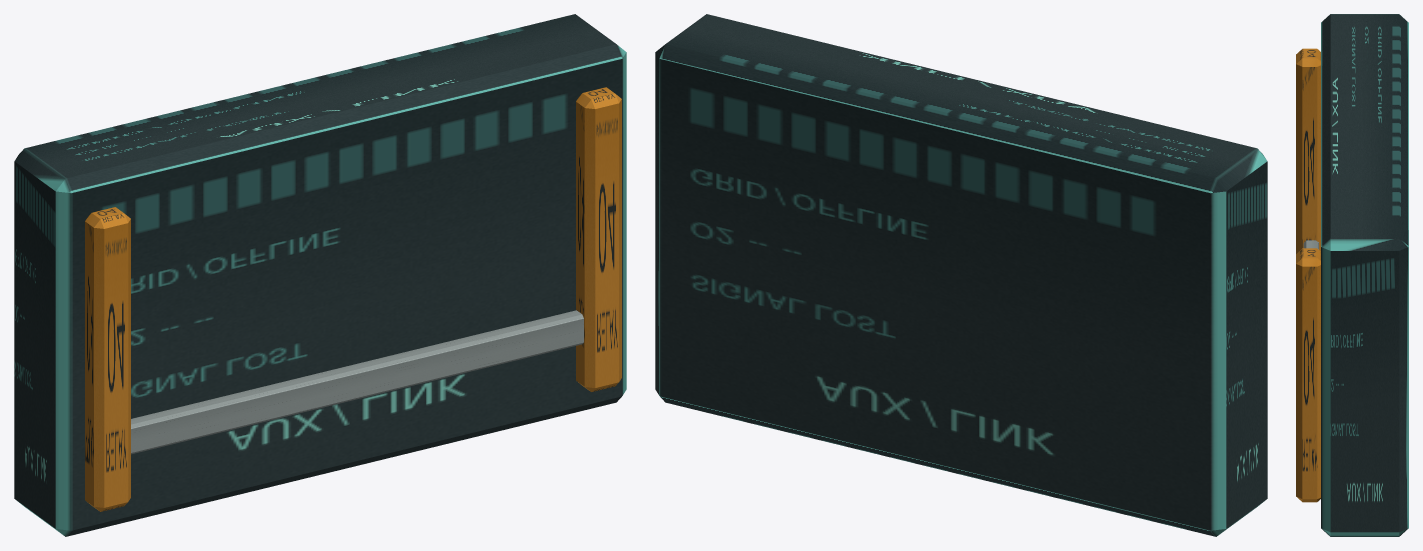
File: wall_half_2m_LOD1.obj
The picture shows the model from 3 angles, left to right: view 1: azimuth 30°, elevation 25°; view 2: azimuth 150°, elevation 25°; view 3: azimuth 270°, elevation 25°; orthographic projection. The views are drawn at different scales.
Parts seen in each view (by area): view 1: L02_wall_half_2m_LOD1; view 2: L02_wall_half_2m_LOD1; view 3: L02_wall_half_2m_LOD1.
Part boxes in pixels (x1=…): L02_wall_half_2m_LOD1: x1=14, y1=14, x2=626, y2=536; L02_wall_half_2m_LOD1: x1=655, y1=14, x2=1267, y2=536; L02_wall_half_2m_LOD1: x1=1296, y1=14, x2=1408, y2=536.
Bounding box in the file's own units: 2 × 1.2 × 0.41.
Materials: 1 (1 with a texture image).
